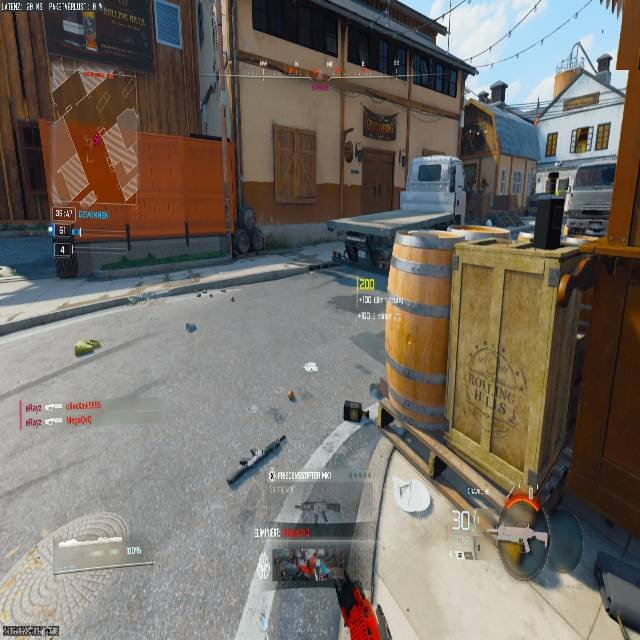player: (230, 202, 263, 259)
